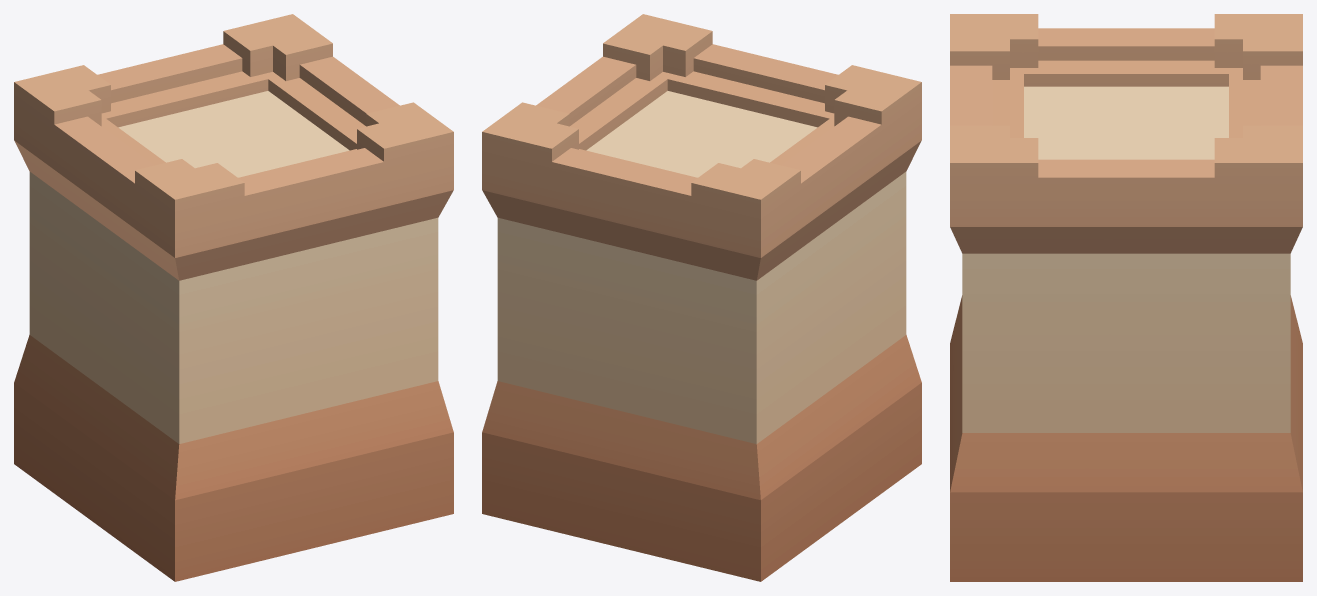
File: tower-square.glb
The picture shows the model from 3 angles, left to right: view 1: azimuth 30°, elevation 25°; view 2: azimuth 150°, elevation 25°; view 3: azimuth 270°, elevation 25°; orthographic projection. The views are drawn at different scales.
Visible parts, largest first — view 1: tower-square; view 2: tower-square; view 3: tower-square.
Boxes of the visible parts, box(x1,y1,x2,y2) form: tower-square: box(14, 14, 453, 581); tower-square: box(482, 14, 921, 581); tower-square: box(950, 14, 1302, 581).
Bounding box in the file's own units: 1 × 1.31 × 1.
1 material, 1 textured.
